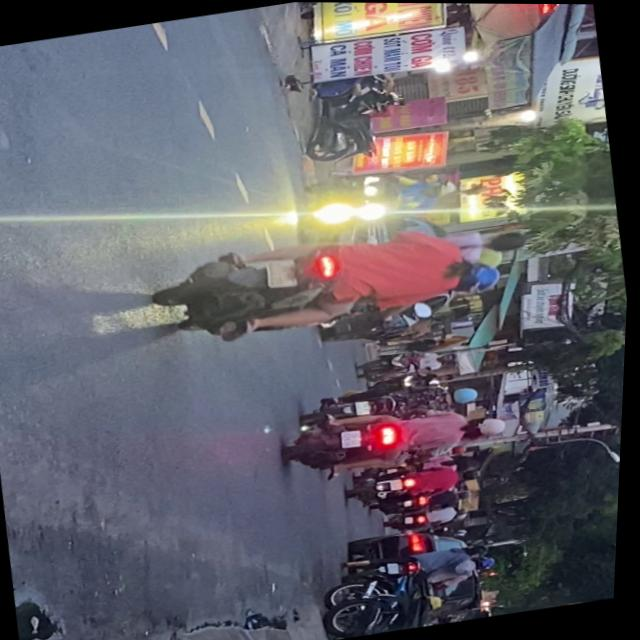helmet: (452, 259, 507, 295), (468, 412, 512, 440), (452, 384, 483, 404)
licenseplate: (151, 202, 538, 358), (283, 393, 516, 484), (301, 369, 486, 432)
motorcyclist: (483, 225, 531, 256)
nohelmet: (266, 257, 301, 289), (344, 429, 367, 448), (358, 400, 375, 415)
